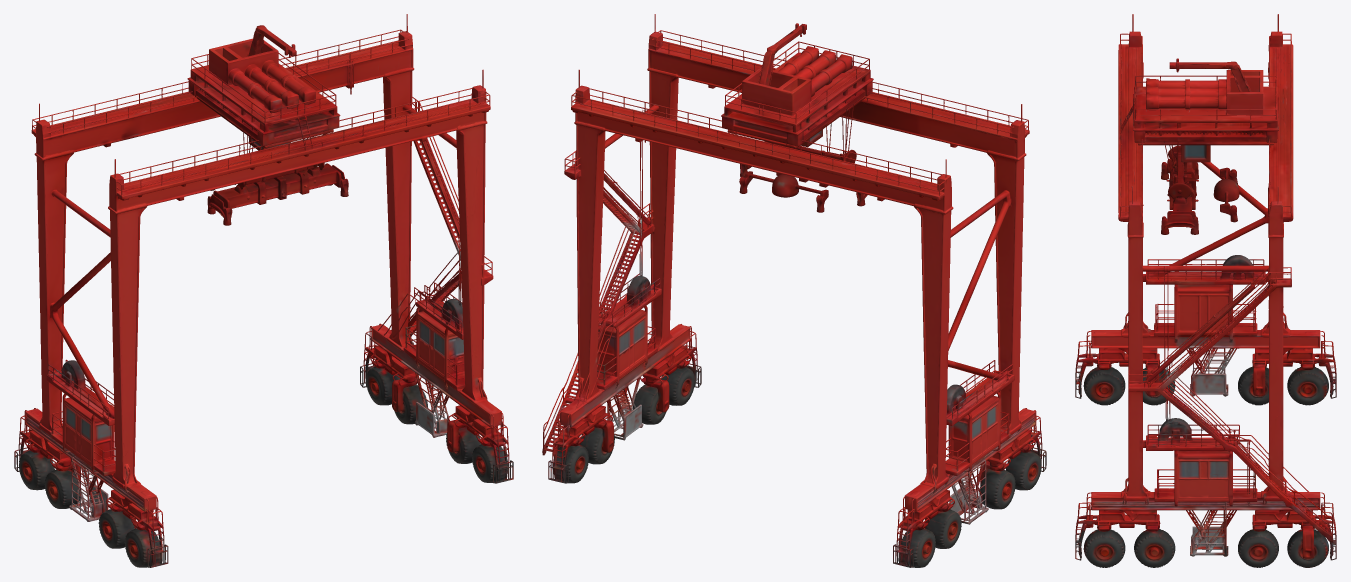
The model's file is 0-orange-rtg-crane.glb.
3 renders of one model, left to right at view 1: azimuth 30°, elevation 25°; view 2: azimuth 150°, elevation 25°; view 3: azimuth 270°, elevation 25°, orthographic. The views are drawn at different scales.
Visible parts, largest first — view 1: node_0; view 2: node_0; view 3: node_0.
Part boxes in pixels (<box>): node_0: <box>14,14,513,567</box>; node_0: <box>542,14,1046,567</box>; node_0: <box>1075,14,1336,567</box>.
Size of the model in its own units: 0.7642 by 0.8634 by 0.4762.
1 material, 1 textured.
